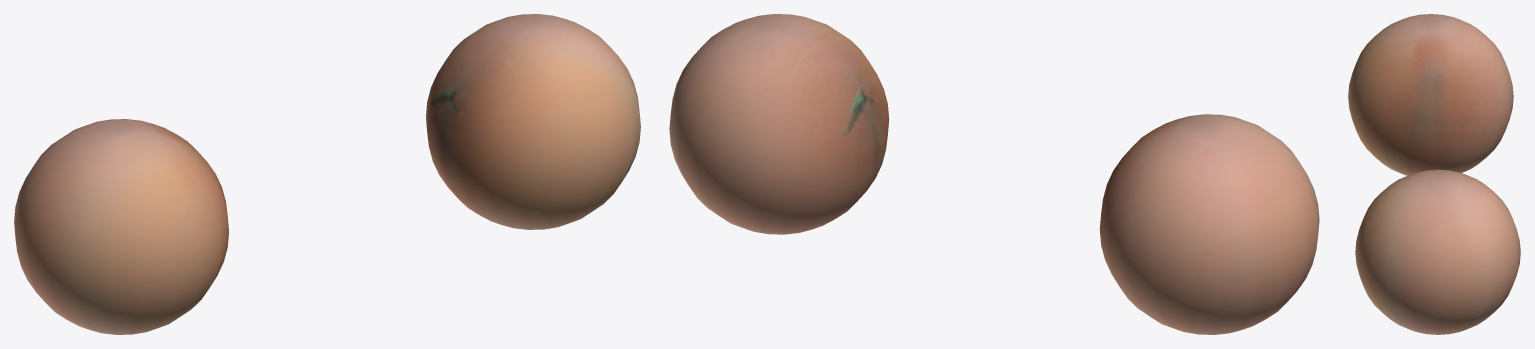
The model's file is Hands_Look_01_02.fbx.
3 renders of one model, left to right at view 1: azimuth 30°, elevation 25°; view 2: azimuth 150°, elevation 25°; view 3: azimuth 270°, elevation 25°, orthographic. The views are drawn at different scales.
Parts seen in each view (by area): view 1: Hands_Look_01_02; view 2: Hands_Look_01_02; view 3: Hands_Look_01_02.
Part boxes in pixels (x1=…): Hands_Look_01_02: x1=14, y1=14, x2=640, y2=334; Hands_Look_01_02: x1=669, y1=14, x2=1319, y2=334; Hands_Look_01_02: x1=1348, y1=14, x2=1520, y2=334.
Bounding box in the file's own units: 108 × 33.59 × 35.04.
1 material, 1 textured.
